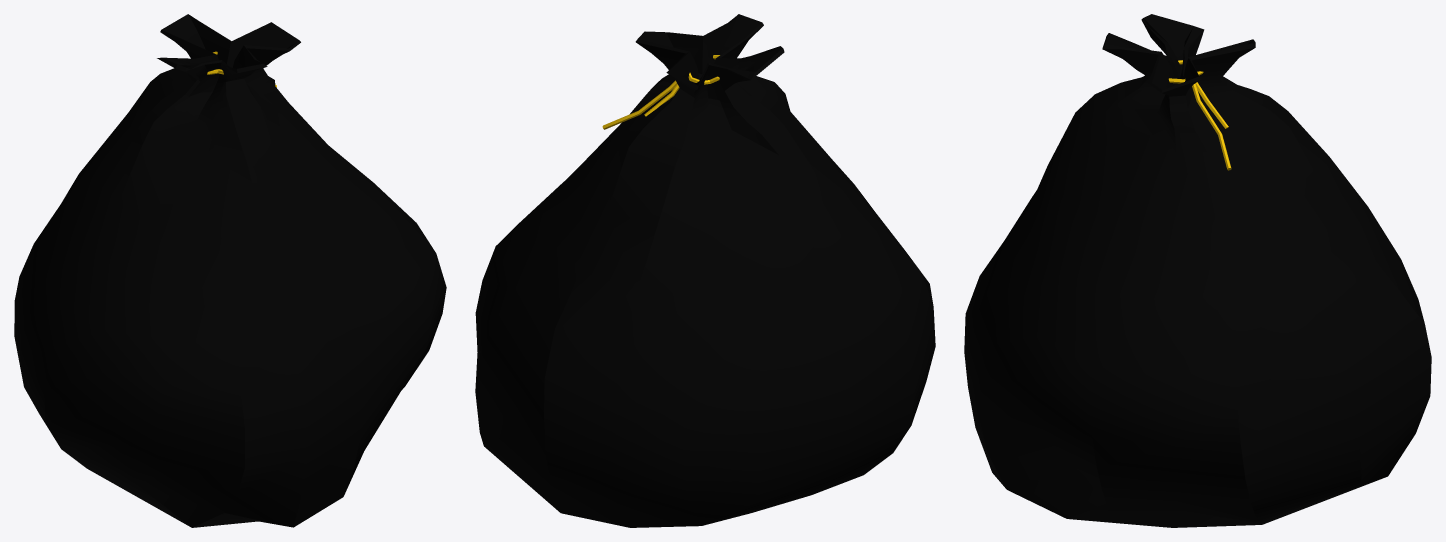
The model's file is BinBag_01.glb.
3 renders of one model, left to right at view 1: azimuth 30°, elevation 25°; view 2: azimuth 150°, elevation 25°; view 3: azimuth 270°, elevation 25°, orthographic. The views are drawn at different scales.
Parts seen in each view (by area): view 1: Mesh_BinBag_01; view 2: Mesh_BinBag_01; view 3: Mesh_BinBag_01.
Boxes of the visible parts, x1,y1,x2,y2 form: Mesh_BinBag_01: [14, 14, 446, 527]; Mesh_BinBag_01: [475, 14, 935, 527]; Mesh_BinBag_01: [964, 14, 1431, 527].
Size of the model in its own units: 0.5021 by 0.5443 by 0.4988.
Materials: 1 (1 with a texture image).
